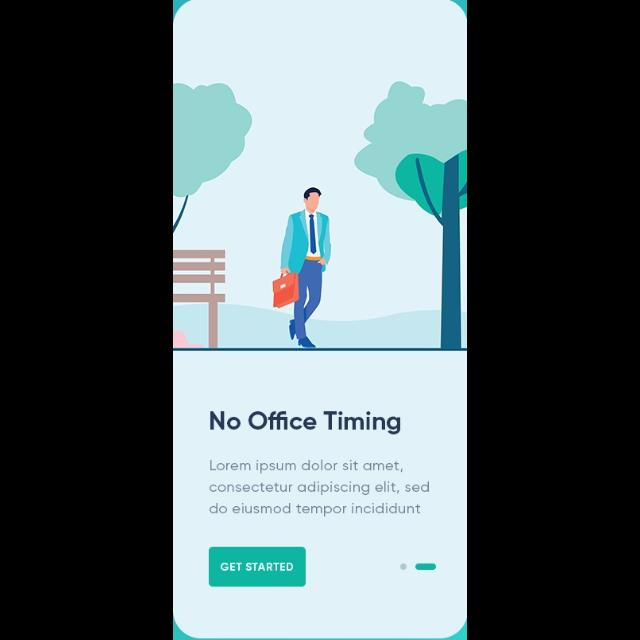image: (174, 81, 468, 351)
pageindicator: (400, 564, 438, 570)
text: (210, 459, 430, 517), (210, 411, 402, 435)
textbutton: (210, 548, 306, 586)
